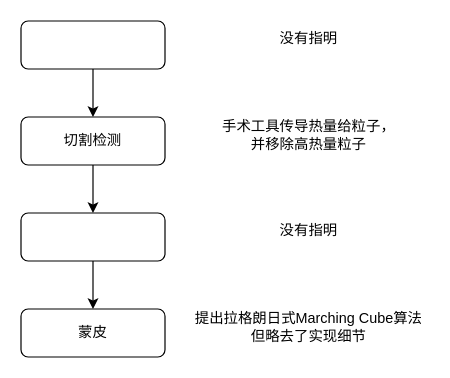
Some shapes in this 450 by 378 pixel diagram are drawn without their labels. Here are the shapes that lost their labels. From the top down, the centre of each, then its label:
At (x=92, y=44): "柔体建模".
At (x=92, y=236): "切割响应 （更新约束）".
